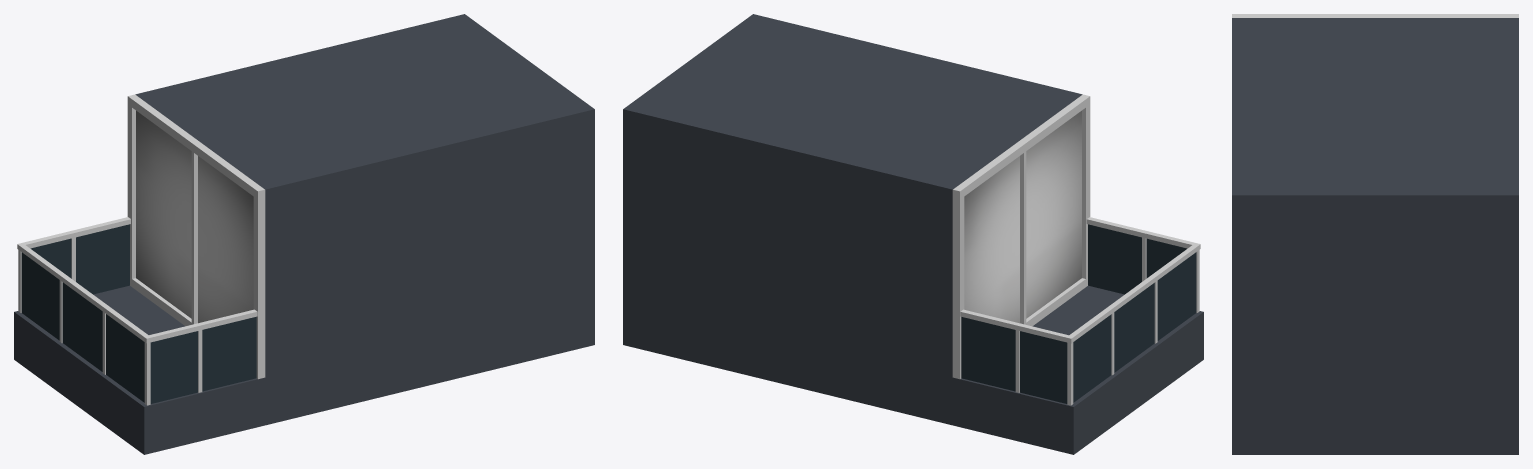
Rendered from Wall_20_Fake_Interior.FBX.
The picture shows the model from 3 angles, left to right: view 1: azimuth 30°, elevation 25°; view 2: azimuth 150°, elevation 25°; view 3: azimuth 270°, elevation 25°; orthographic projection. The views are drawn at different scales.
Visible parts, largest first — view 1: Wall_20_Fake_Interior; view 2: Wall_20_Fake_Interior; view 3: Wall_20_Fake_Interior.
Boxes of the visible parts, left/top/right/bottom form: Wall_20_Fake_Interior: left=14, top=14, right=594, bottom=454; Wall_20_Fake_Interior: left=623, top=14, right=1203, bottom=454; Wall_20_Fake_Interior: left=1232, top=14, right=1518, bottom=454.
Size of what is drawn, in the model's own units: 360 by 180 by 180.
